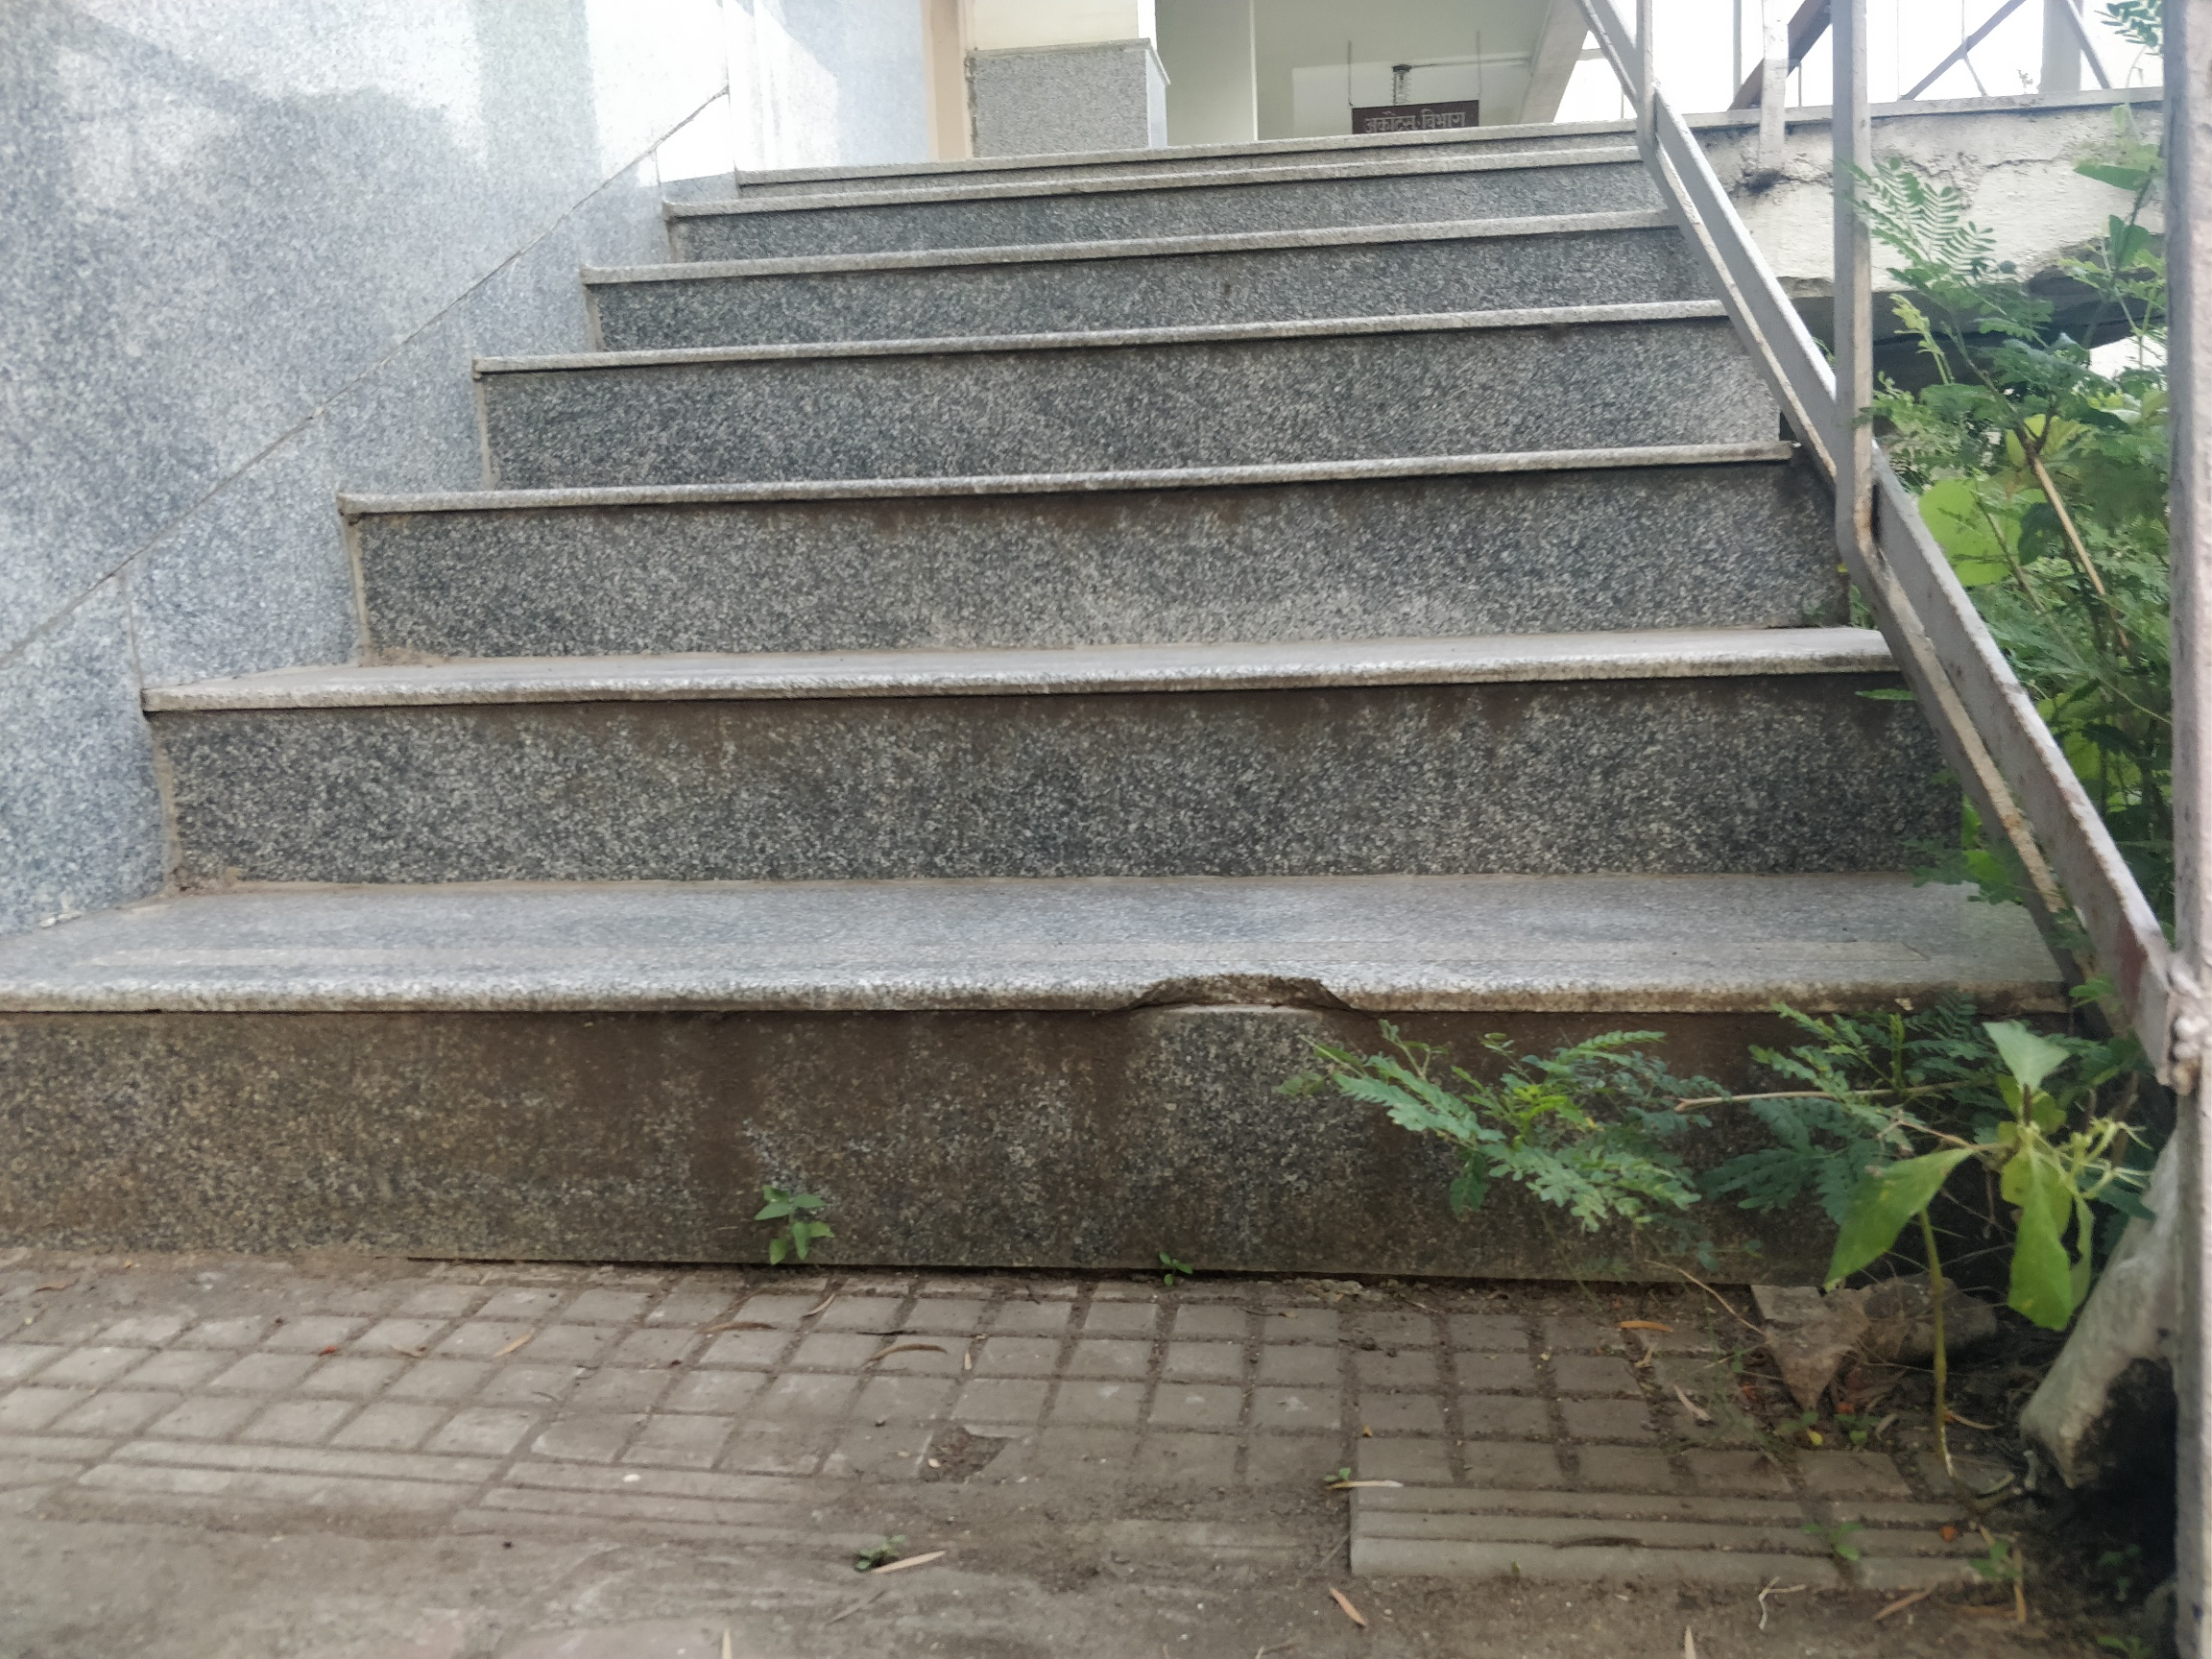stairs_up: (3, 99, 1768, 1342)
